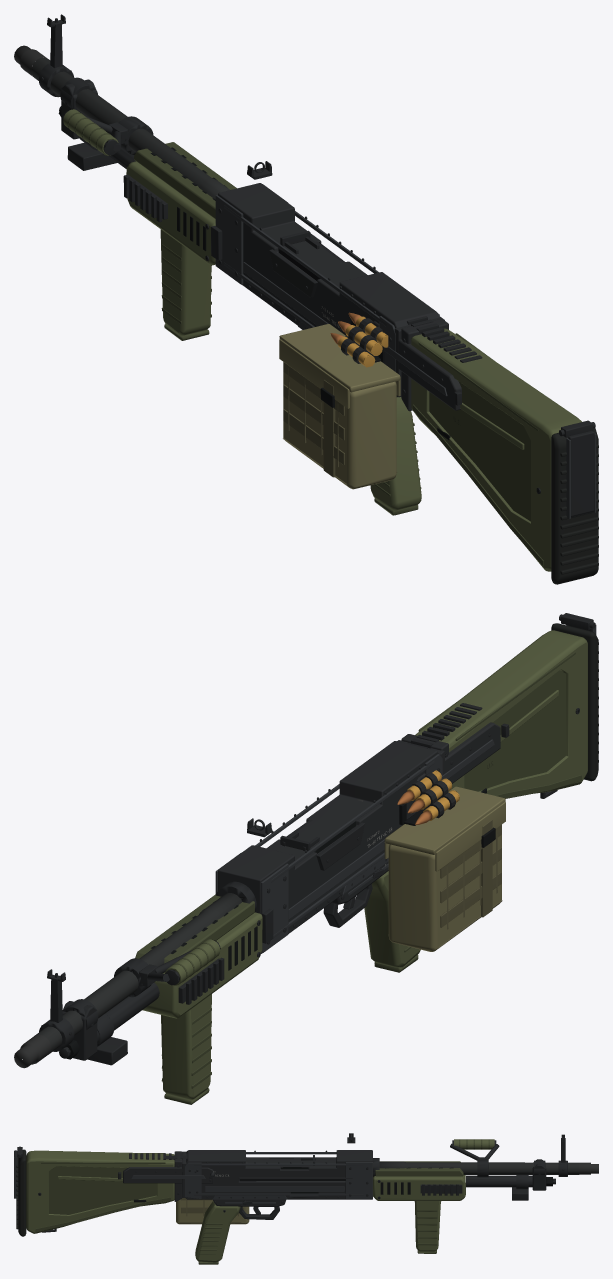
Rendered from weapon-49-MQDWqFSS.glb.
The picture shows the model from 3 angles, top to bottom: view 1: azimuth 30°, elevation 25°; view 2: azimuth 150°, elevation 25°; view 3: azimuth 270°, elevation 25°; orthographic projection. The views are drawn at different scales.
Parts seen in each view (by area): view 1: salient_weapon_body, salient_weapon_magazine, salient_weapon_cover, salient_weapon_belt, salient_weapon_iron; view 2: salient_weapon_body, salient_weapon_magazine, salient_weapon_cover, salient_weapon_belt, salient_weapon_iron; view 3: salient_weapon_body, salient_weapon_cover, salient_weapon_magazine, salient_weapon_iron.
Part boxes in pixels (left/top/right/bottom): salient_weapon_body: left=14, top=45, right=598, bottom=584; salient_weapon_magazine: left=279, top=320, right=400, bottom=489; salient_weapon_cover: left=372, top=316, right=482, bottom=410; salient_weapon_belt: left=330, top=312, right=388, bottom=367; salient_weapon_iron: left=47, top=14, right=272, bottom=179; salient_weapon_body: left=14, top=613, right=598, bottom=1104; salient_weapon_magazine: left=384, top=786, right=505, bottom=951; salient_weapon_cover: left=407, top=703, right=509, bottom=802; salient_weapon_belt: left=397, top=770, right=459, bottom=825; salient_weapon_iron: left=47, top=818, right=272, bottom=1022; salient_weapon_body: left=14, top=1139, right=598, bottom=1264; salient_weapon_cover: left=118, top=1153, right=214, bottom=1183; salient_weapon_magazine: left=176, top=1198, right=249, bottom=1224; salient_weapon_iron: left=347, top=1133, right=565, bottom=1162.
Size of the model in its own units: 0.1216 by 0.2478 by 1.03.
